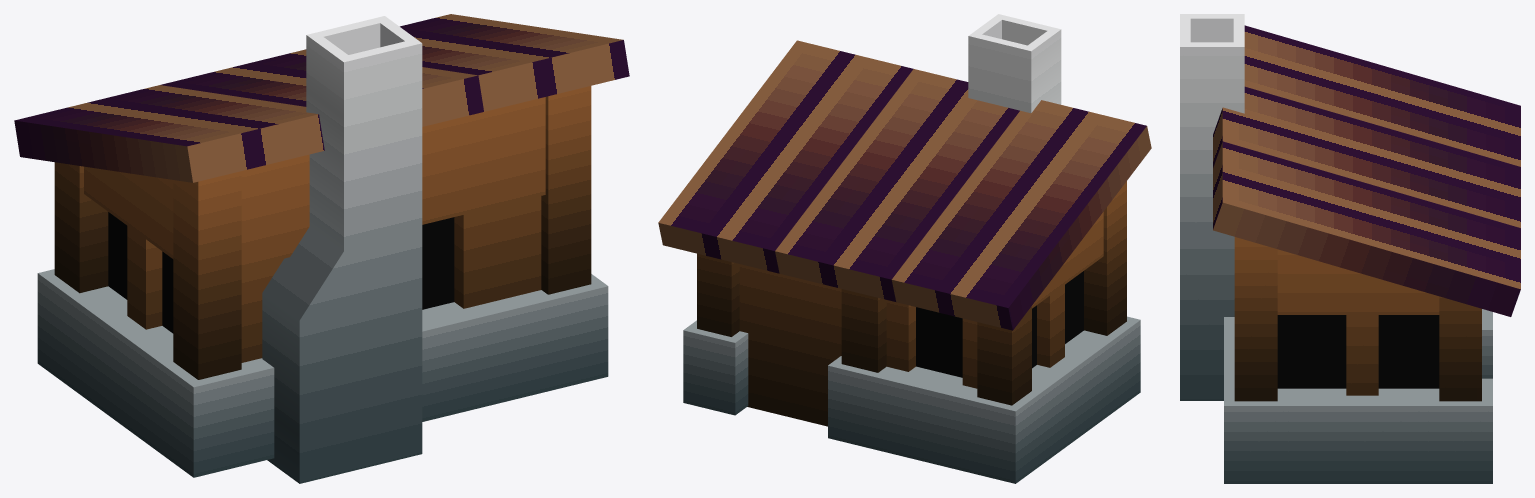
File: house_lvl3.fbx
The picture shows the model from 3 angles, left to right: view 1: azimuth 30°, elevation 25°; view 2: azimuth 150°, elevation 25°; view 3: azimuth 270°, elevation 25°; orthographic projection. The views are drawn at different scales.
Parts seen in each view (by area): view 1: house_lvl3; view 2: house_lvl3; view 3: house_lvl3.
Boxes of the visible parts, x1,y1,x2,y2 form: house_lvl3: [14, 14, 629, 483]; house_lvl3: [658, 14, 1151, 483]; house_lvl3: [1180, 14, 1520, 483].
Bounding box in the file's own units: 1010 × 908 × 792.
